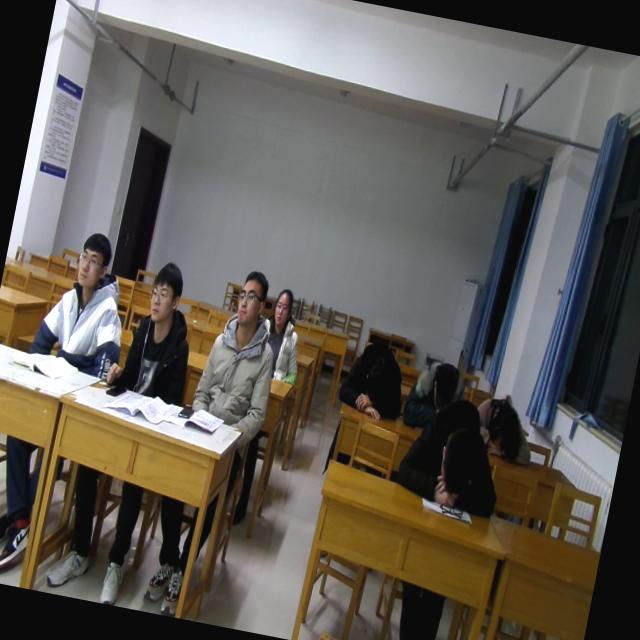bow: (390, 387, 514, 519), (334, 332, 415, 426), (465, 389, 545, 472), (399, 353, 473, 438)
lookup: (71, 222, 116, 296), (143, 258, 187, 329), (229, 265, 273, 335), (268, 285, 298, 331)
sit: (188, 264, 292, 439), (26, 227, 144, 379), (103, 252, 207, 405), (253, 284, 314, 388)
